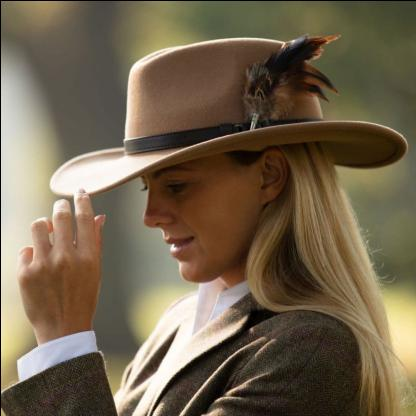hat: (43, 31, 408, 198)
